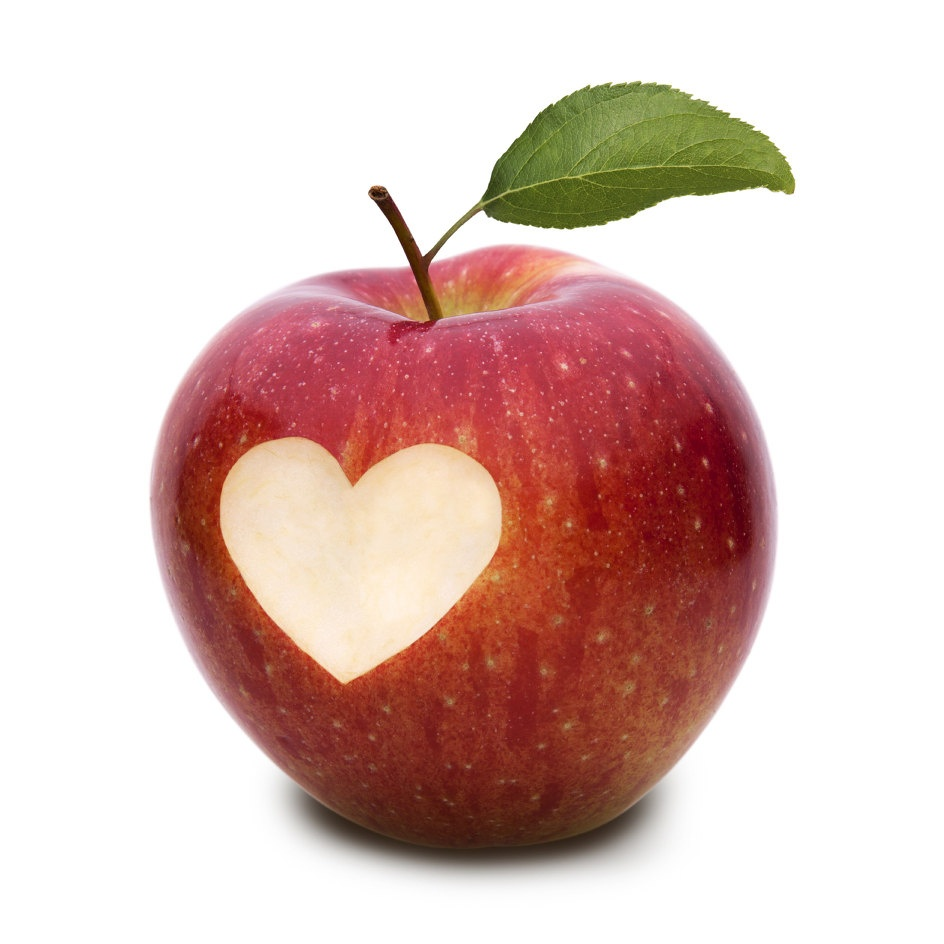apple: (158, 225, 796, 839)
